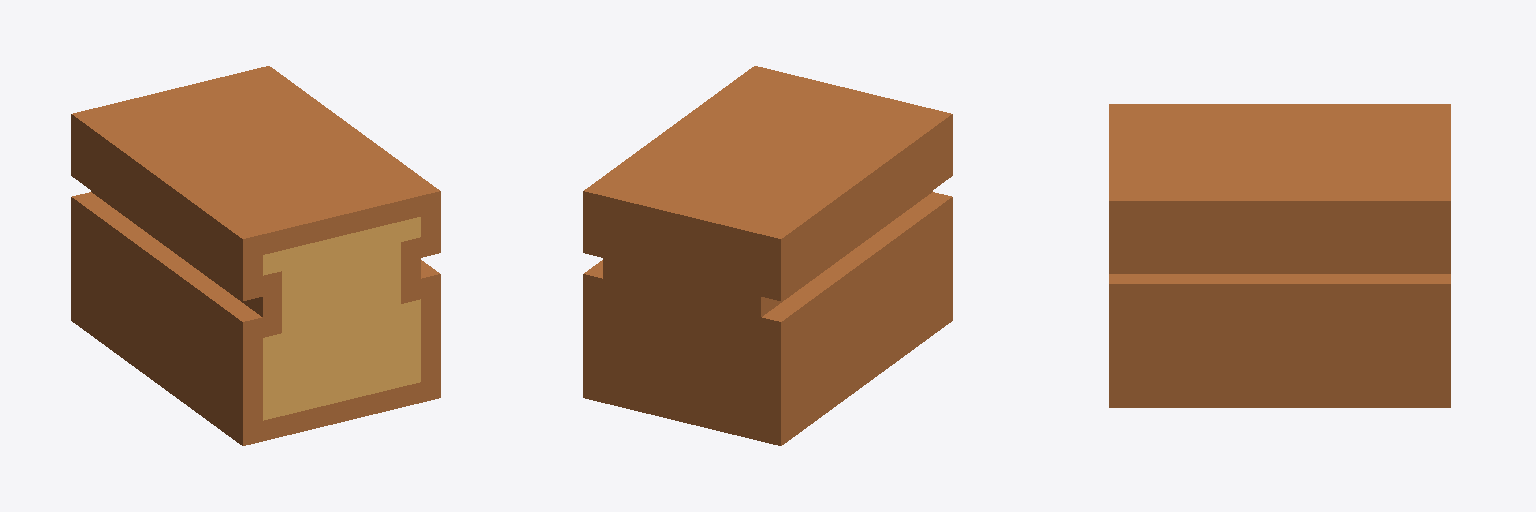
The picture shows the model from 3 angles: view 1: azimuth 30°, elevation 25°; view 2: azimuth 150°, elevation 25°; view 3: azimuth 270°, elevation 25°; orthographic projection.
Parts seen in each view (by area): view 1: object 1; view 2: object 1; view 3: object 1.
Part boxes in pixels (bbox=[...]): object 1: bbox=[71, 66, 440, 445]; object 1: bbox=[583, 66, 952, 445]; object 1: bbox=[1109, 104, 1450, 407].
Bounding box in the file's own units: 1 × 1 × 1.5.
Materials: 1 (1 with a texture image).